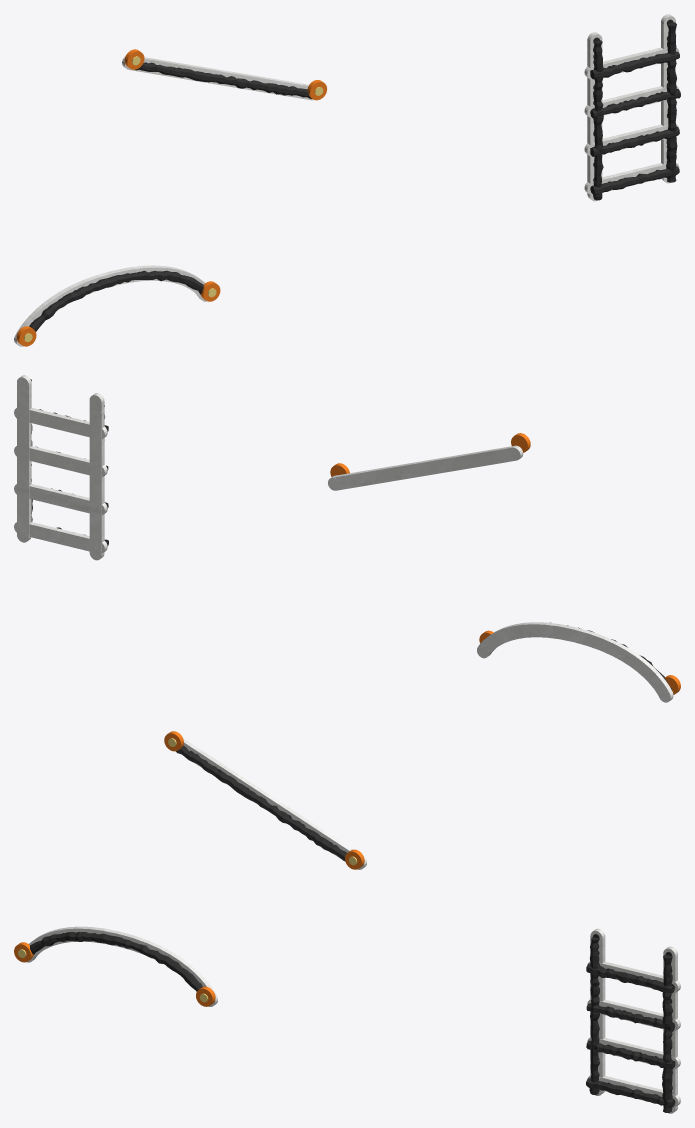
File: gidsen_leveleind.glb
3 views of the same model, one above another, from view 1: azimuth 30°, elevation 25°; view 2: azimuth 150°, elevation 25°; view 3: azimuth 330°, elevation 25° (orthographic).
Visible parts, largest first — view 1: eind_gids_ladder_1, eind_gids_brug_1, eind_gids_helling_1; view 2: eind_gids_ladder_1, eind_gids_brug_1, eind_gids_helling_1; view 3: eind_gids_ladder_1, eind_gids_helling_1, eind_gids_brug_1.
Part boxes in pixels (x1,y1,x2,y2): eind_gids_ladder_1: [584, 14, 680, 201]; eind_gids_brug_1: [14, 265, 206, 346]; eind_gids_helling_1: [122, 57, 313, 100]; eind_gids_ladder_1: [14, 375, 108, 560]; eind_gids_brug_1: [477, 622, 673, 702]; eind_gids_helling_1: [328, 445, 523, 490]; eind_gids_ladder_1: [586, 928, 680, 1113]; eind_gids_helling_1: [176, 738, 366, 869]; eind_gids_brug_1: [27, 926, 217, 1006].
Size of the model in its own units: 10.86 by 3.91 by 0.861.
Materials: 4 (1 with a texture image).
